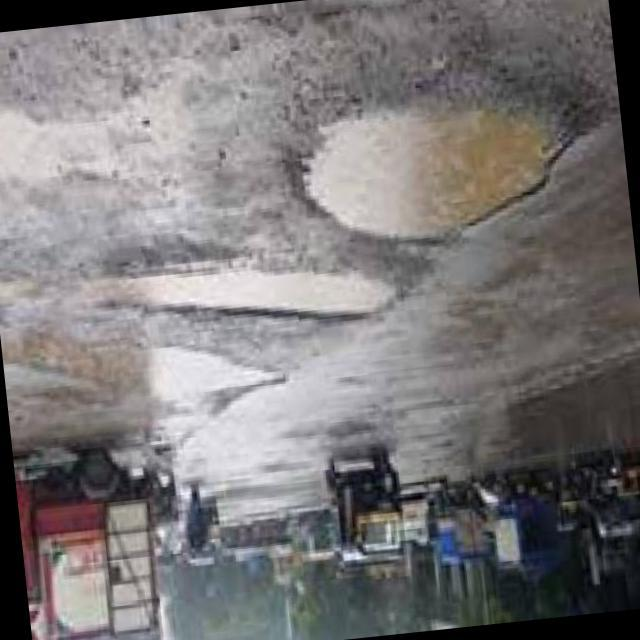pothole: (276, 72, 570, 288), (77, 231, 420, 373)
